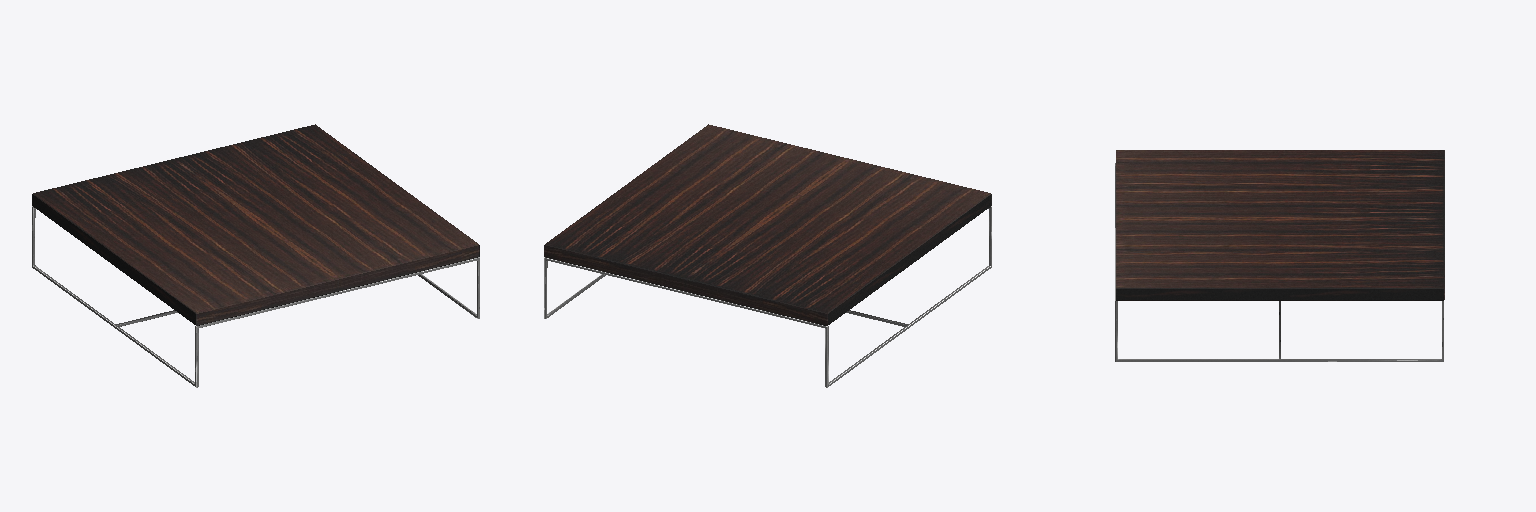
The picture shows the model from 3 angles: view 1: azimuth 30°, elevation 25°; view 2: azimuth 150°, elevation 25°; view 3: azimuth 270°, elevation 25°; orthographic projection.
Visible parts, largest first — view 1: solid_001, solid_002; view 2: solid_001, solid_002; view 3: solid_001, solid_002.
Boxes of the visible parts, <box> form: solid_001: <box>32,124,479,325</box>; solid_002: <box>32,206,479,387</box>; solid_001: <box>544,124,991,325</box>; solid_002: <box>544,206,991,387</box>; solid_001: <box>1116,150,1444,300</box>; solid_002: <box>1115,163,1443,361</box>.
Size of the model in its own units: 1.99 by 0.4992 by 2.
1 materials, 1 textured.